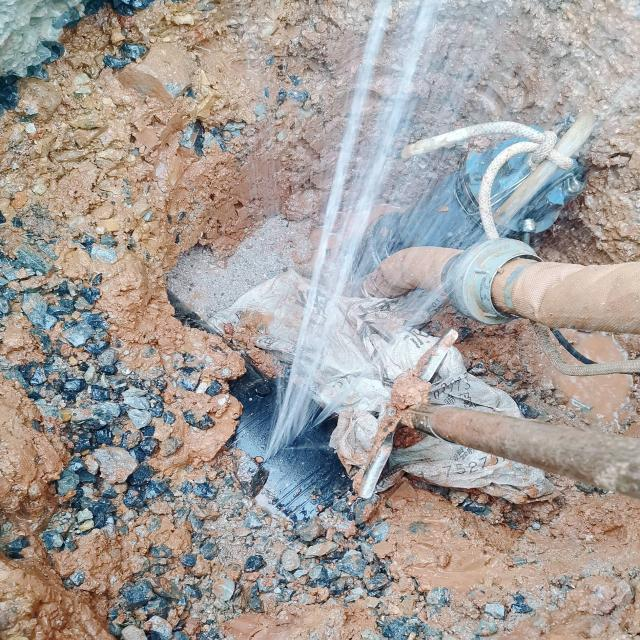leak: (270, 0, 640, 466)
